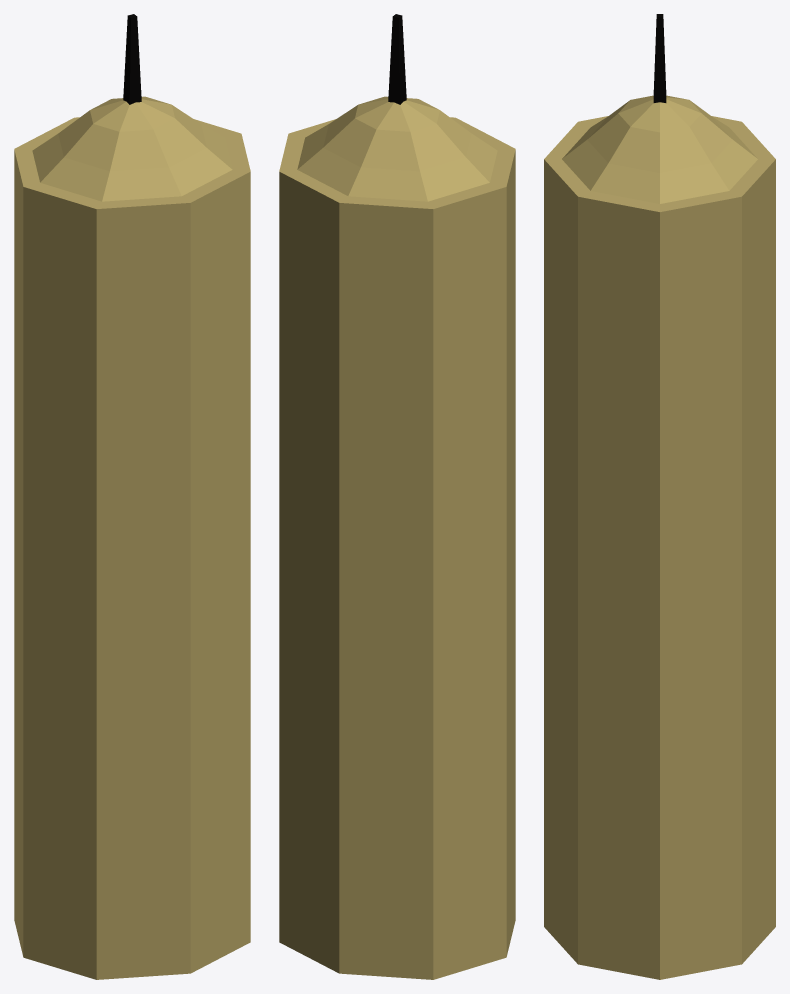
The model's file is Vela - Var 3.fbx.
The picture shows the model from 3 angles, left to right: view 1: azimuth 30°, elevation 25°; view 2: azimuth 150°, elevation 25°; view 3: azimuth 270°, elevation 25°; orthographic projection.
Parts seen in each view (by area): view 1: Vela_larga; view 2: Vela_larga; view 3: Vela_larga.
Part boxes in pixels (<box>): Vela_larga: <box>14,14,250,979</box>; Vela_larga: <box>279,14,515,979</box>; Vela_larga: <box>544,14,775,979</box>.
Bounding box in the file's own units: 3.93 × 15.76 × 3.63.
